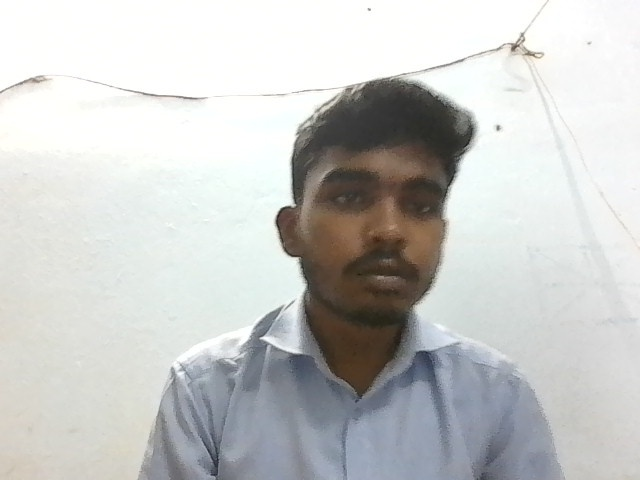real: (281, 69, 473, 341)
